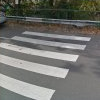crosswalk: (0, 30, 91, 100)
